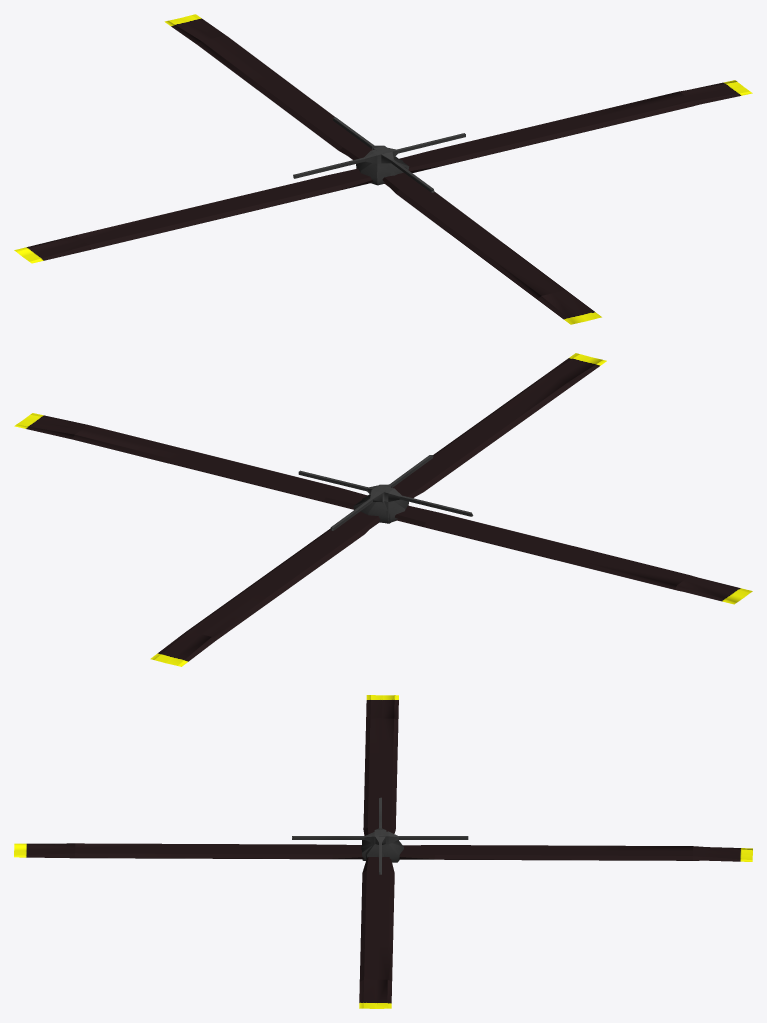
The model's file is Vehicle_heliblade.fbx.
3 views of the same model, one above another, from view 1: azimuth 30°, elevation 25°; view 2: azimuth 150°, elevation 25°; view 3: azimuth 270°, elevation 25° (orthographic). The views are drawn at different scales.
Parts seen in each view (by area): view 1: blade_1, blade_2; view 2: blade_1, blade_2; view 3: blade_2, blade_1.
Boxes of the visible parts, bbox=[...] form: blade_1: bbox=[14, 80, 752, 263]; blade_2: bbox=[164, 14, 601, 324]; blade_1: bbox=[14, 413, 752, 604]; blade_2: bbox=[150, 353, 606, 666]; blade_2: bbox=[14, 831, 752, 862]; blade_1: bbox=[359, 695, 398, 1008].
Bounding box in the file's own units: 3807 × 144 × 3807.
